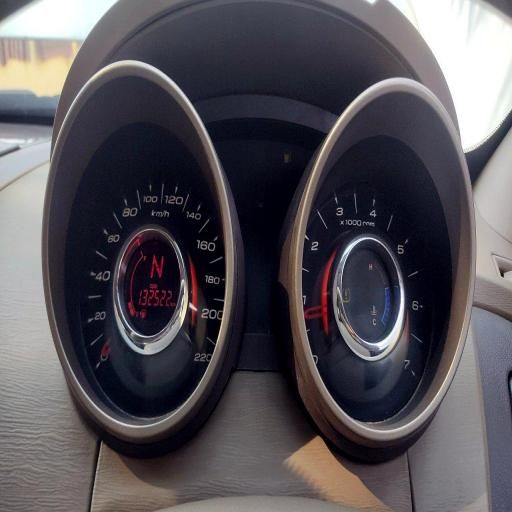tachometer: (302, 179, 435, 421)
